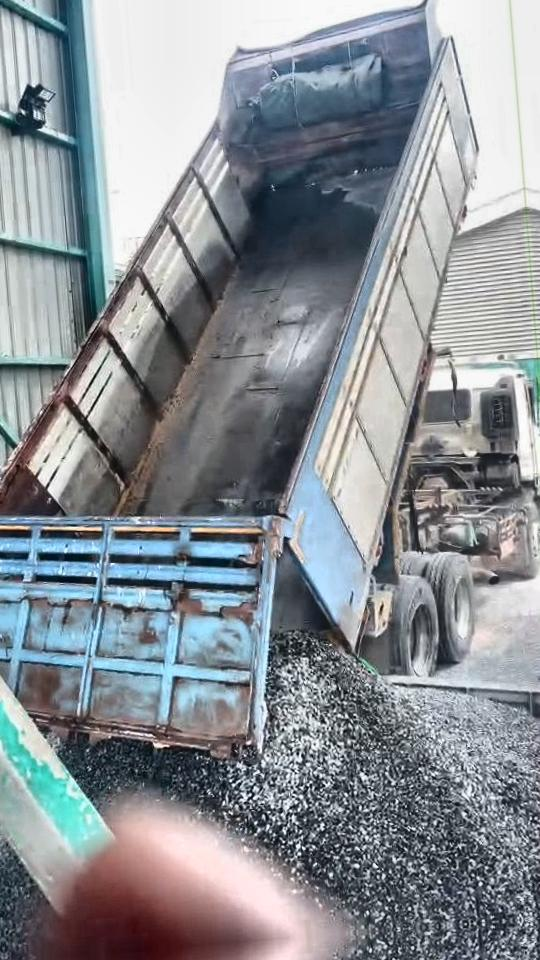gravel: (61, 634, 540, 929), (0, 850, 36, 957)
